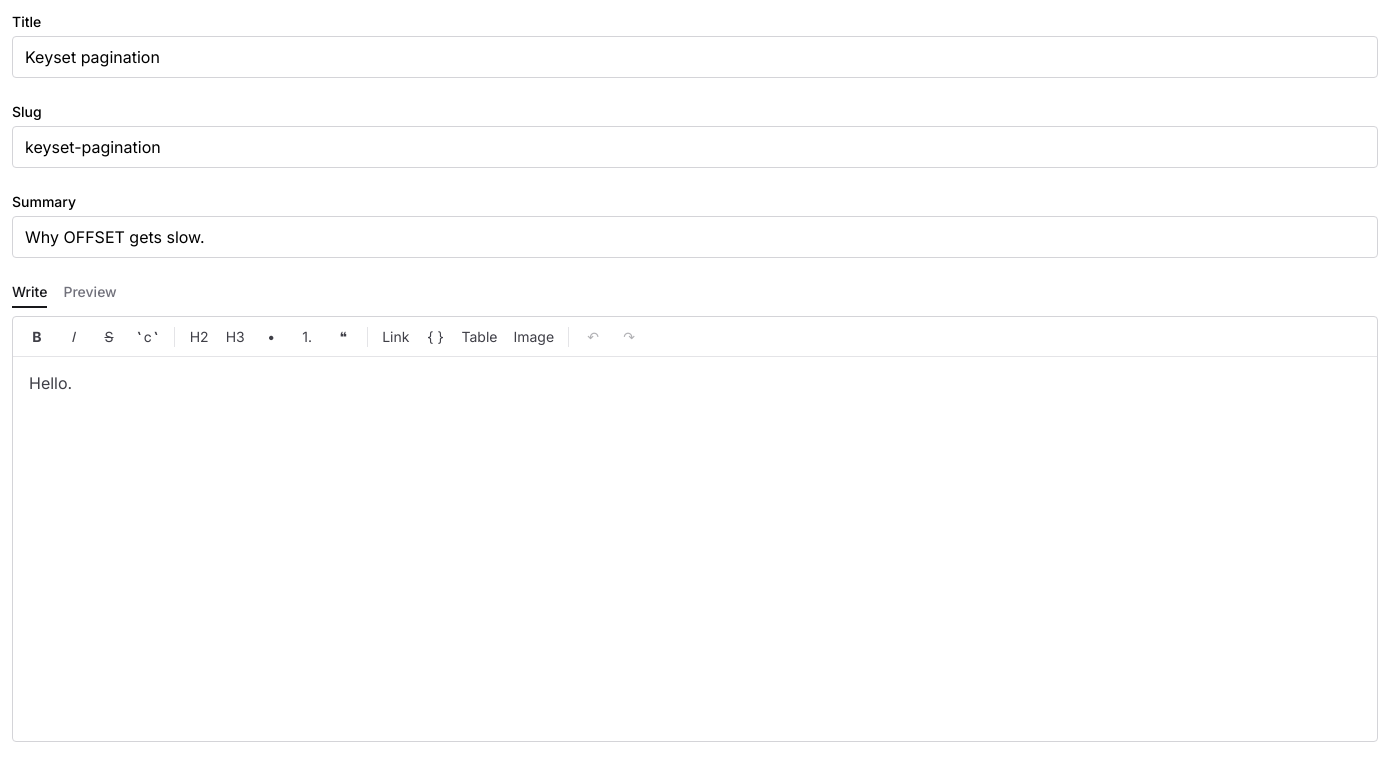
Test case: PostEditor, existing post › warns before renaming a published post
This screenshot has width=1390, height=768.
Expected: the text "breaks links" is not shown
Replace the text in the field labelled "Slug" with "renamed" at [695, 147], box x1=12 y1=126 x2=1378 y2=168
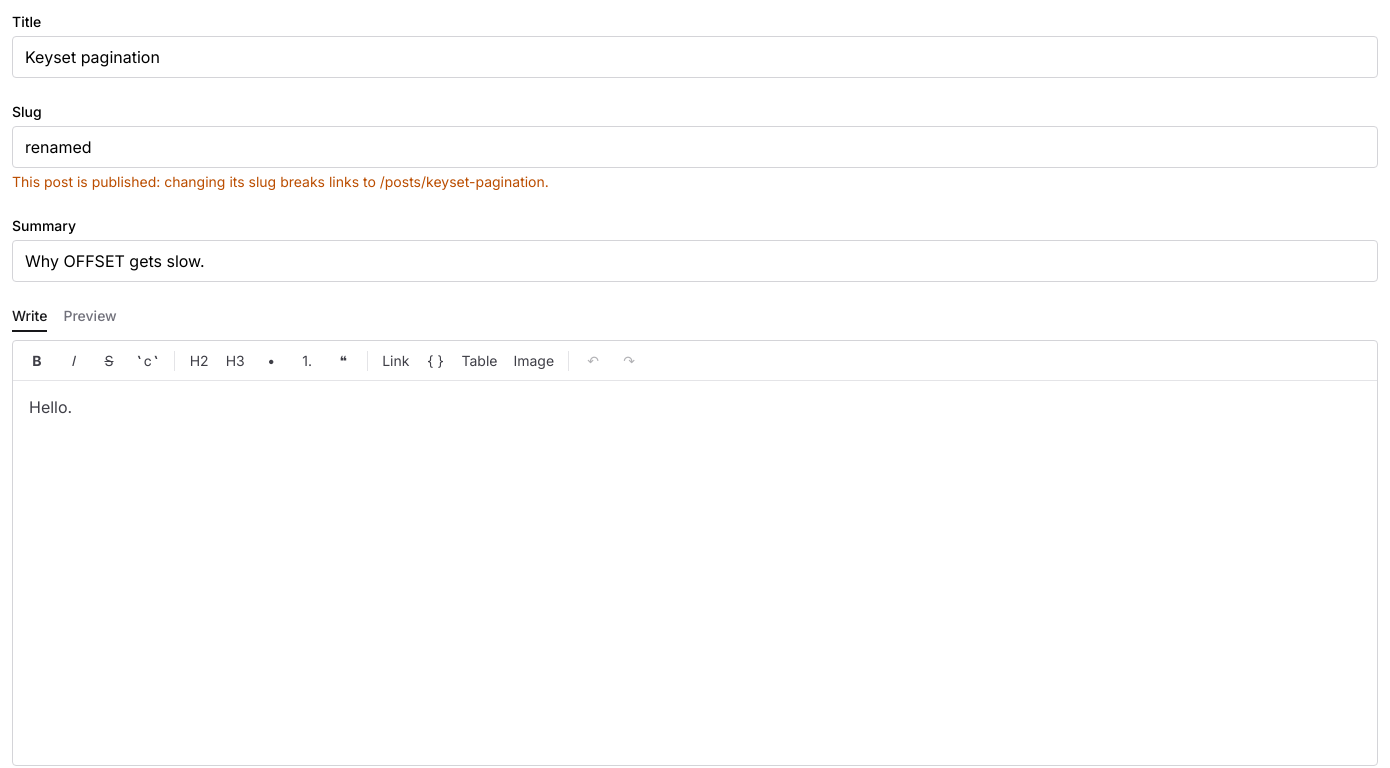
Expected: the text "breaks links" is shown, x1=12 y1=173 x2=549 y2=190
